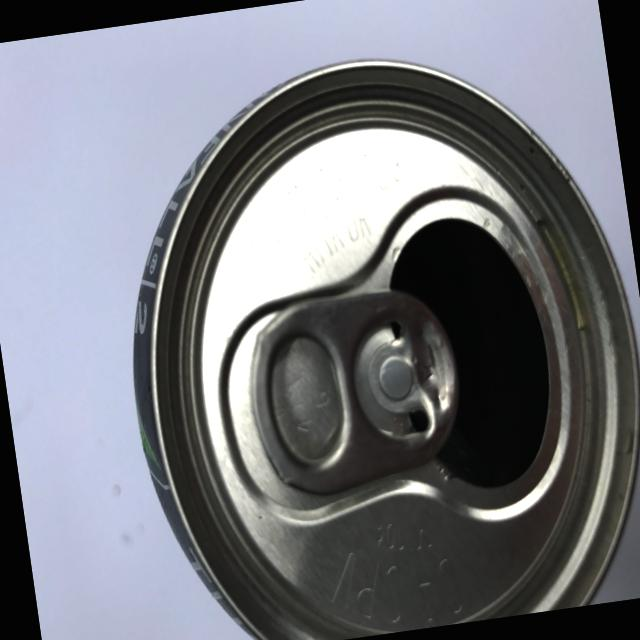Metal: (76, 1, 640, 640)
